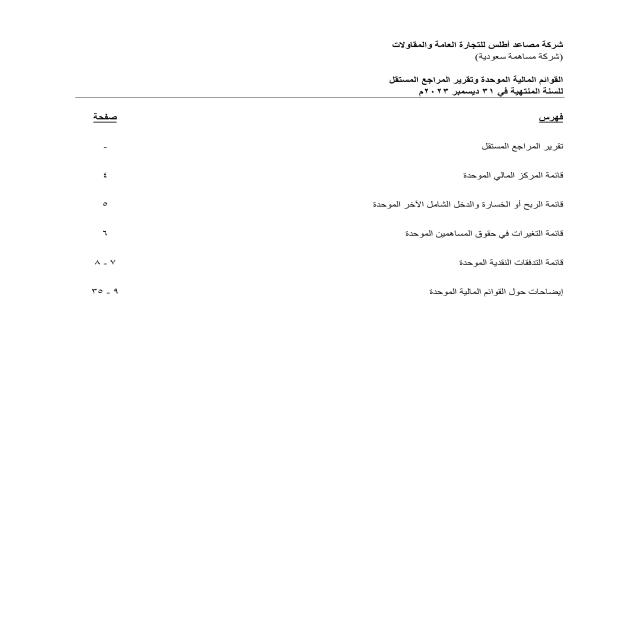other: (53, 106, 569, 327)
